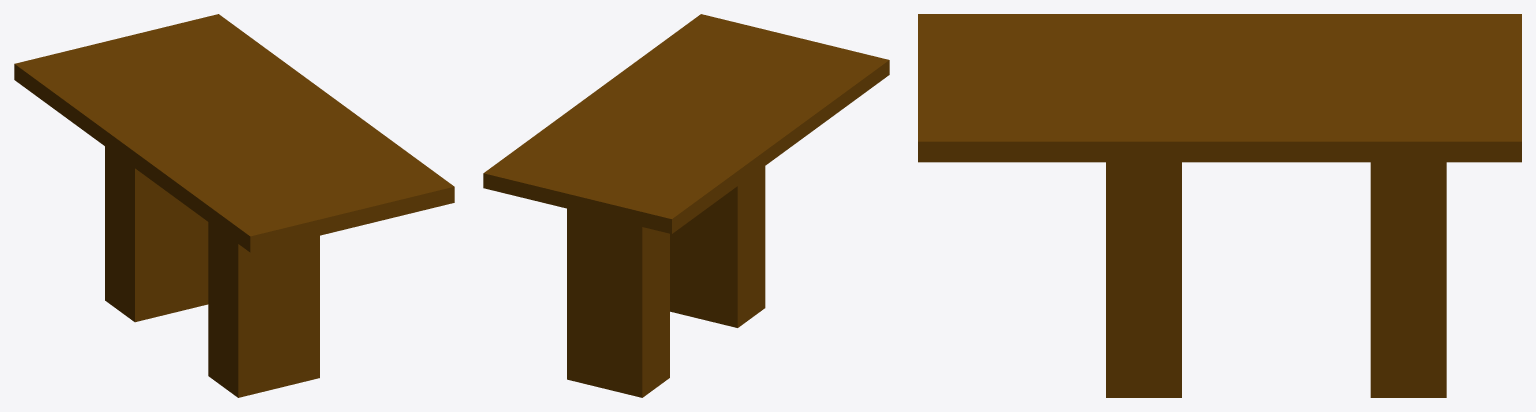
The model's file is muelle.fbx.
The picture shows the model from 3 angles, left to right: view 1: azimuth 30°, elevation 25°; view 2: azimuth 150°, elevation 25°; view 3: azimuth 270°, elevation 25°; orthographic projection. The views are drawn at different scales.
Parts seen in each view (by area): view 1: Muelle; view 2: Muelle; view 3: Muelle.
Part boxes in pixels (x1=…): Muelle: x1=14, y1=14, x2=454, y2=397; Muelle: x1=483, y1=14, x2=889, y2=397; Muelle: x1=918, y1=14, x2=1521, y2=397.
Bounding box in the file's own units: 200 × 215 × 400.
